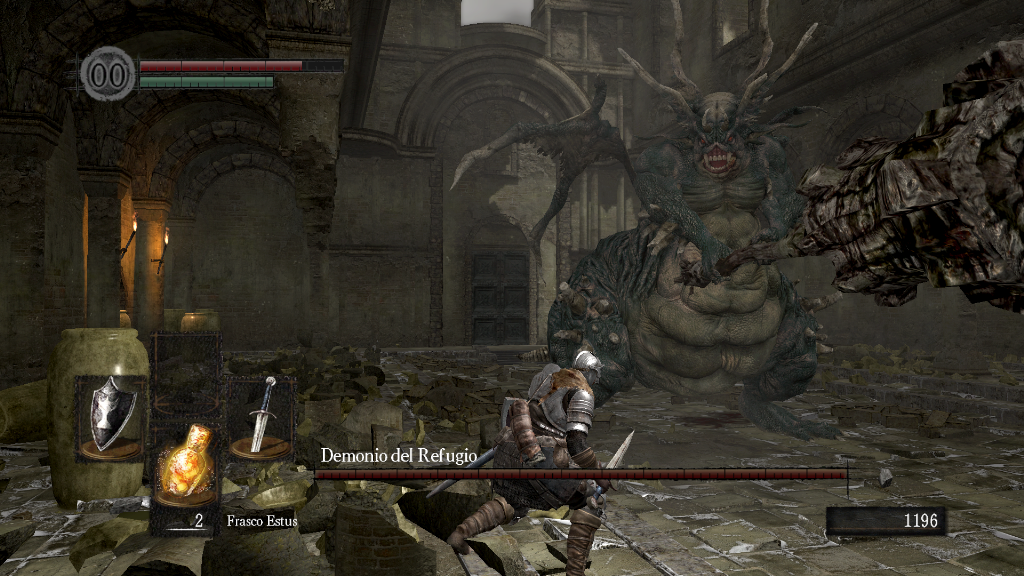asylumDemon: (452, 2, 844, 441)
bossHP: (314, 469, 847, 479)
health: (138, 58, 343, 71)
humanity: (80, 45, 136, 102)
player: (447, 349, 637, 576)
souls: (825, 506, 945, 536)
stamina: (138, 74, 274, 88)
